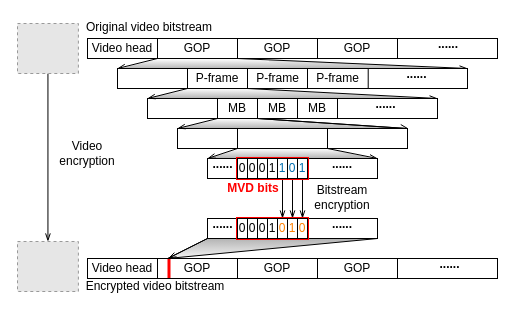
The diagram is 515 pixels wide and 313 high, and some of its shapes have lost their labels. Grey dashed boxes stand in for pictures. The centre of each missing label's shape, as x and y in pixels:
"I-frame" goes at (152,78).
"MB head" goes at (207,138).
"Prediction data" goes at (282,138).
"Residual data" goes at (367,138).
"Slice head" goes at (182,108).
